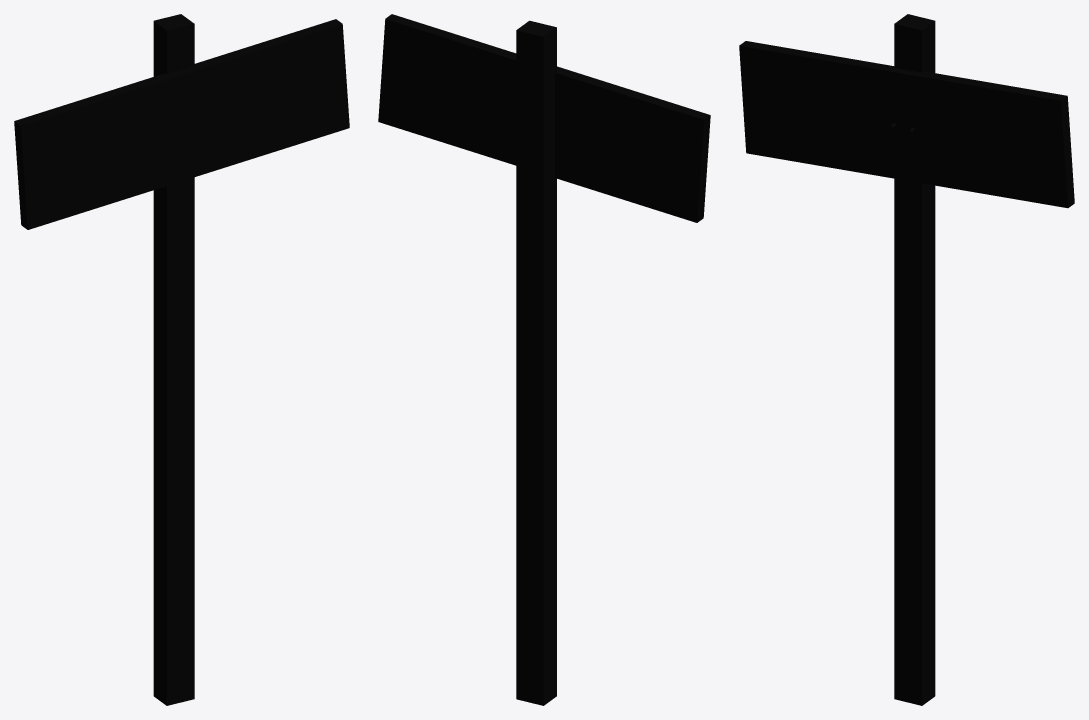
Rendered from SM_sign_turn_back.fbx.
The picture shows the model from 3 angles, left to right: view 1: azimuth 30°, elevation 25°; view 2: azimuth 150°, elevation 25°; view 3: azimuth 330°, elevation 25°; orthographic projection.
Visible parts, largest first — view 1: sign_turn_back; view 2: sign_turn_back; view 3: sign_turn_back.
Boxes of the visible parts, bbox=[...] form: sign_turn_back: bbox=[14, 14, 349, 705]; sign_turn_back: bbox=[378, 14, 710, 705]; sign_turn_back: bbox=[739, 14, 1074, 705].
Bounding box in the file's own units: 0.7136 × 1.4 × 0.079.
